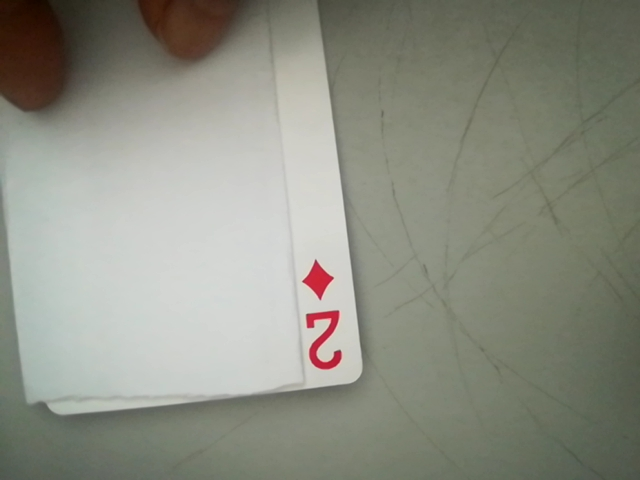fk 2: (288, 255, 359, 380)
